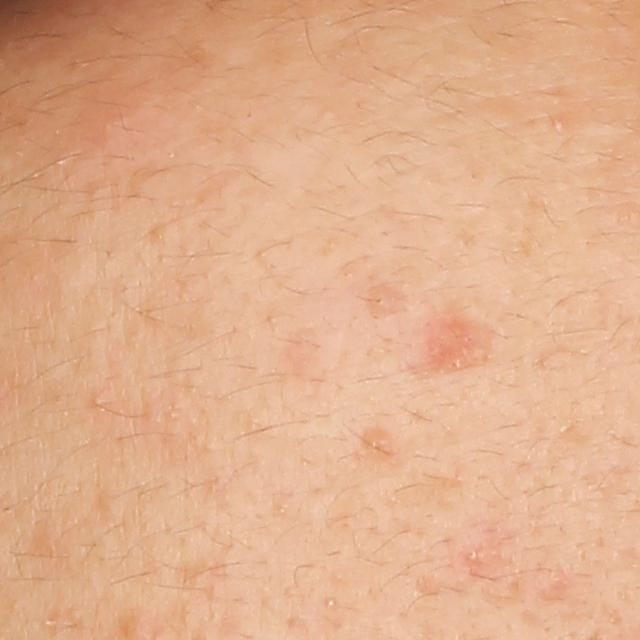comedo: (551, 115, 568, 133), (90, 394, 105, 406)
